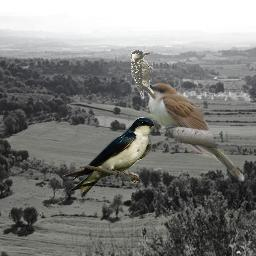Cuckoo: (143, 83, 245, 182)
Swallow: (62, 117, 155, 197)
Woodpecker: (131, 50, 157, 100)
